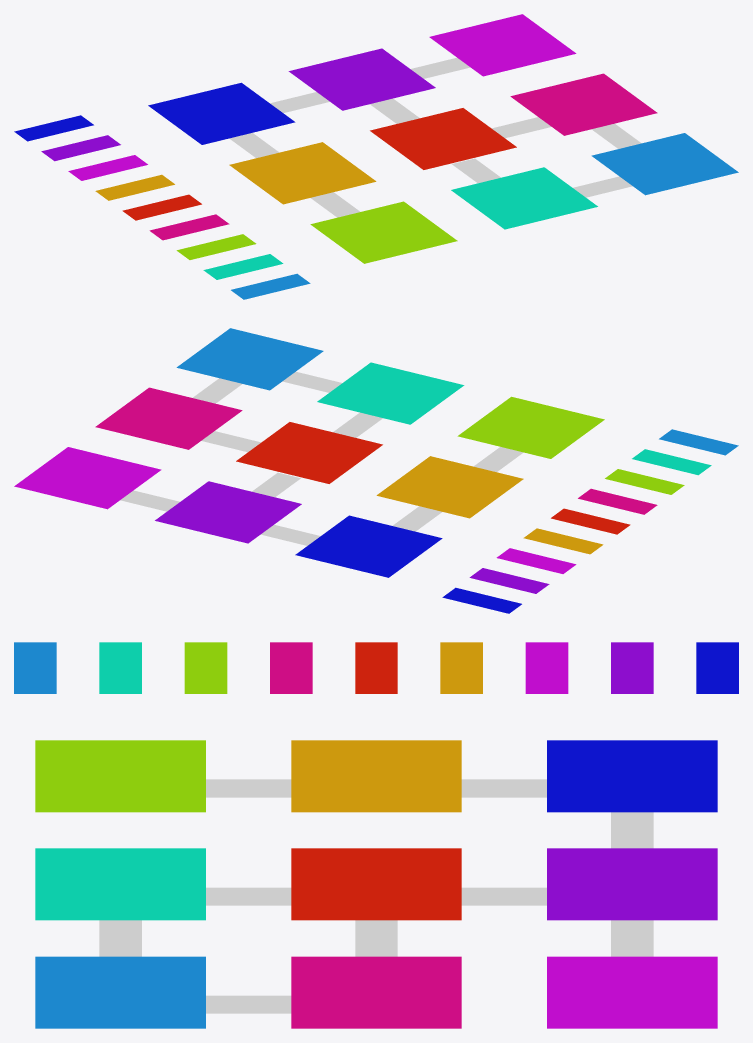
The model's file is object_test_buttons.fbx.
3 renders of one model, top to bottom at view 1: azimuth 30°, elevation 25°; view 2: azimuth 150°, elevation 25°; view 3: azimuth 270°, elevation 25°, orthographic. The views are drawn at different scales.
Visible parts, largest first — view 1: upper-middle, lower-left, lower-middle, middle-left, upper-right, middle-right, lower-right, middle-middle, upper-left, button-lower-right, button-lower-middle, button-middle-left (+15 smaller); view 2: lower-middle, upper-left, upper-middle, middle-left, upper-right, middle-right, lower-right, middle-middle, lower-left, button-upper-left, button-upper-middle, button-upper-right (+15 smaller); view 3: upper-middle, lower-middle, middle-middle, upper-left, middle-left, lower-left, upper-right, middle-right, lower-right, button-upper-right, button-lower-left, button-lower-right (+15 smaller).
Part boxes in pixels (x1=…): upper-middle: x1=288, y1=48, x2=435, y2=110; lower-left: x1=310, y1=201, x2=457, y2=263; lower-middle: x1=451, y1=167, x2=597, y2=229; middle-left: x1=229, y1=142, x2=376, y2=204; upper-right: x1=429, y1=14, x2=576, y2=76; middle-right: x1=510, y1=73, x2=657, y2=135; lower-right: x1=591, y1=133, x2=738, y2=195; middle-middle: x1=370, y1=108, x2=516, y2=169; upper-left: x1=148, y1=82, x2=295, y2=144; button-lower-right: x1=231, y1=273, x2=310, y2=299; button-lower-middle: x1=203, y1=254, x2=283, y2=279; button-middle-left: x1=95, y1=174, x2=174, y2=200; lower-middle: x1=317, y1=362, x2=464, y2=424; upper-left: x1=295, y1=515, x2=442, y2=577; upper-middle: x1=155, y1=481, x2=301, y2=543; middle-left: x1=376, y1=456, x2=523, y2=518; upper-right: x1=14, y1=447, x2=161, y2=509; middle-right: x1=95, y1=387, x2=242, y2=449; lower-right: x1=176, y1=328, x2=323, y2=390; middle-middle: x1=236, y1=422, x2=382, y2=483; lower-left: x1=457, y1=396, x2=604, y2=458; button-upper-left: x1=442, y1=587, x2=521, y2=613; button-upper-middle: x1=469, y1=568, x2=549, y2=593; button-upper-right: x1=496, y1=548, x2=576, y2=573; upper-middle: x1=547, y1=848, x2=717, y2=920; lower-middle: x1=35, y1=848, x2=205, y2=920; middle-middle: x1=291, y1=848, x2=461, y2=920; upper-left: x1=547, y1=740, x2=717, y2=812; middle-left: x1=291, y1=740, x2=461, y2=812; lower-left: x1=35, y1=740, x2=205, y2=812; upper-right: x1=547, y1=956, x2=717, y2=1028; middle-right: x1=291, y1=956, x2=461, y2=1028; lower-right: x1=35, y1=956, x2=205, y2=1028; button-upper-right: x1=525, y1=642, x2=568, y2=693; button-lower-left: x1=184, y1=642, x2=227, y2=693; button-lower-right: x1=14, y1=642, x2=56, y2=693.
Bounding box in the file's own units: 1071 × 15.82 × 850.
